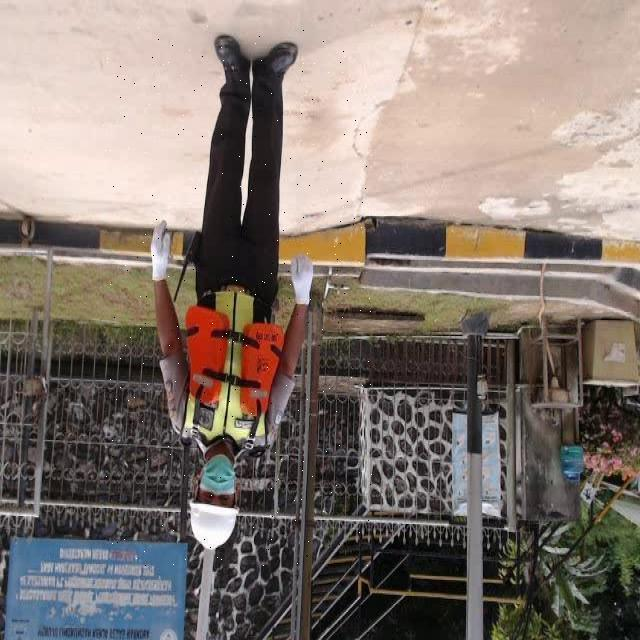Boots: (205, 32, 253, 80), (254, 37, 300, 83)
Gloves: (145, 217, 179, 284), (287, 253, 324, 308)
Helmet: (184, 501, 238, 550)
Vest: (177, 283, 290, 446)
